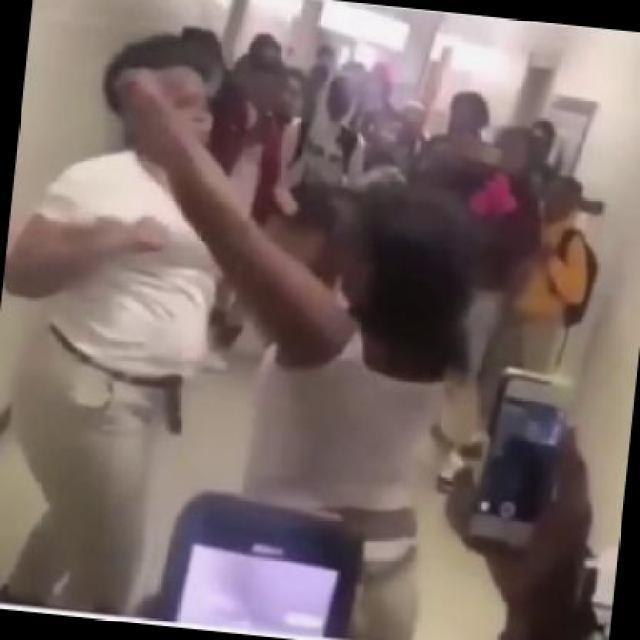fight: (0, 20, 498, 549)
